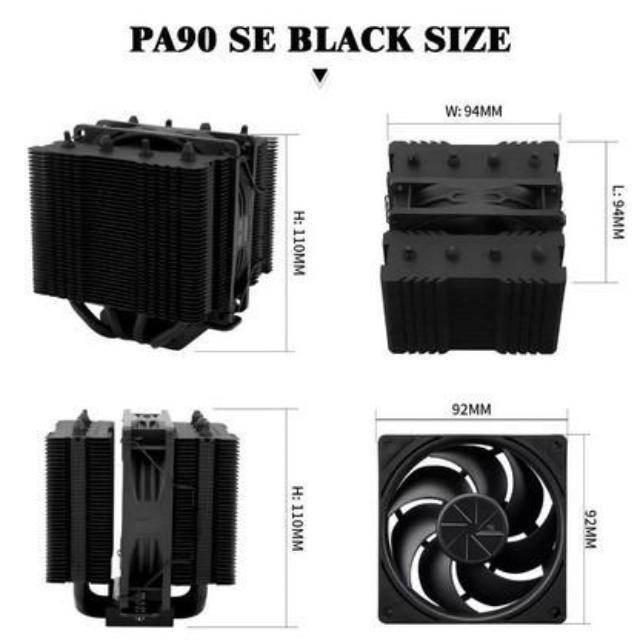CPU_Fan: (25, 112, 282, 360), (42, 408, 242, 634), (376, 138, 572, 360)
